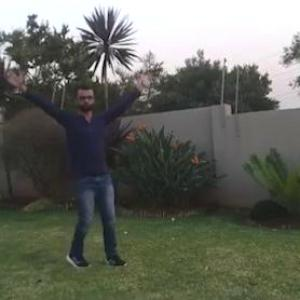takeoff: (1, 74, 149, 270)
